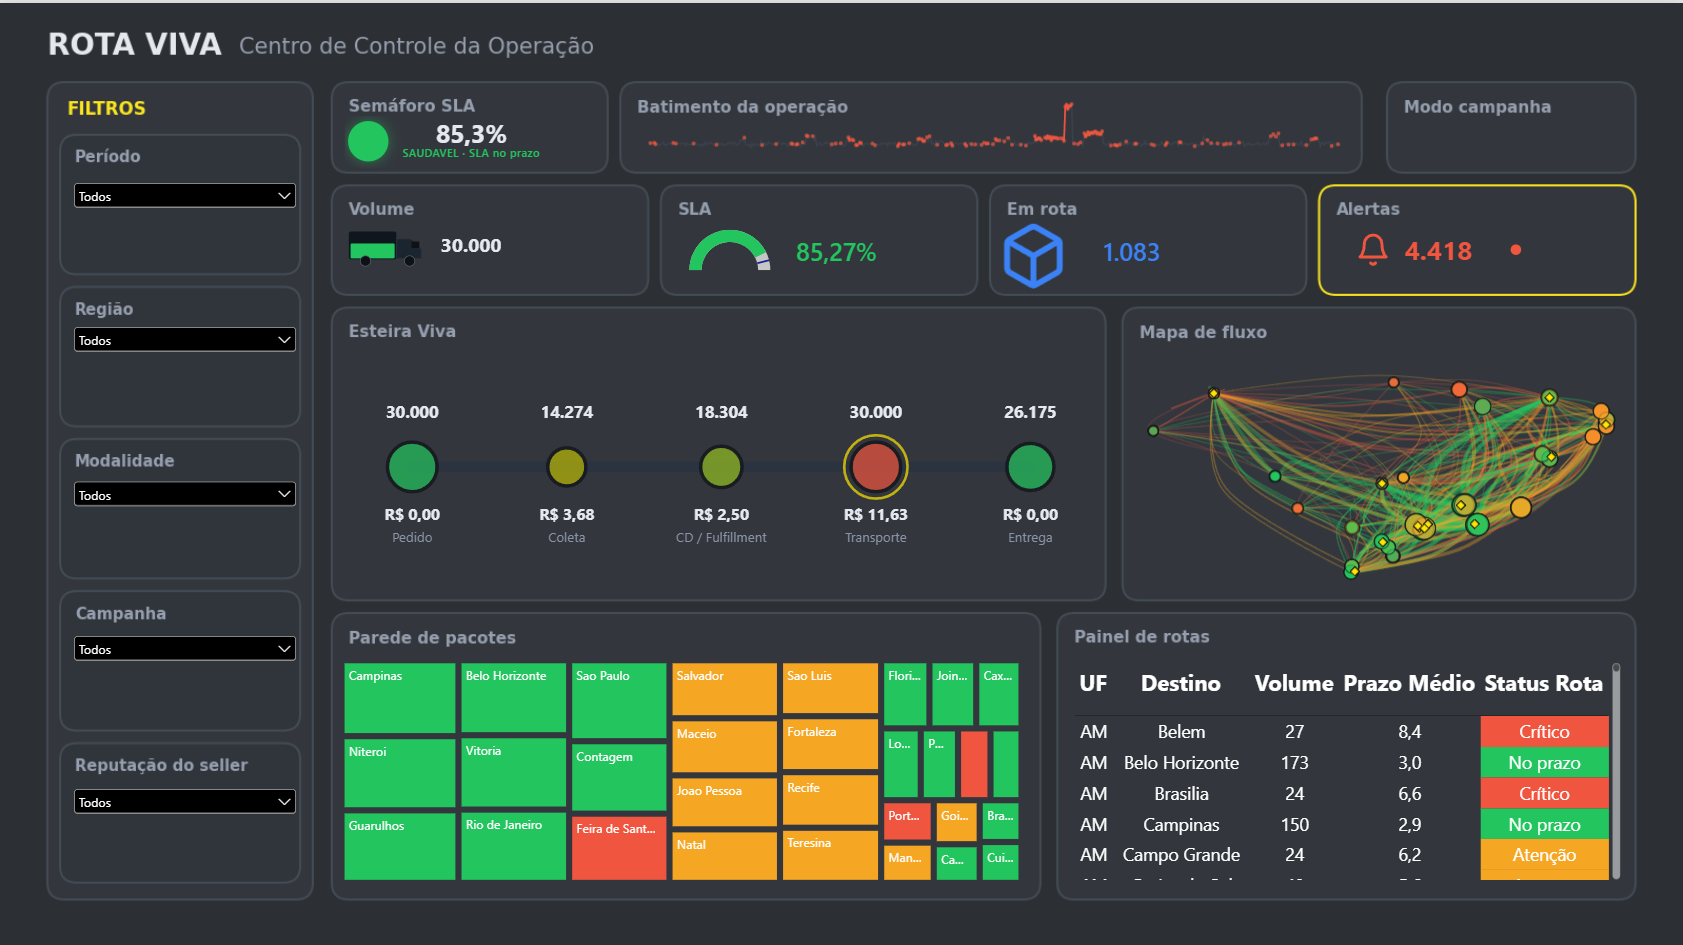

This screenshot's page, from the dashboard's own definition file:
{"tool":"powerbi","page":{"name":"Página 1","canvas":[1920,1080],"ordinal":0},"visuals":[{"type":"htmlContent443BE3AD55E043BF878BED274D3A6855","fields":{"content":["medida.Farol SLA HTML"]},"box":[378.3,114.5,335.6,89.2],"z":0},{"type":"deneb7E15AEF80B9E4D4F8E12924291ECE89A","fields":{"dataset":["dim_calendario.data","medida.Total Envios","medida.Abaixo Meta"]},"box":[713.7,92.8,839.4,96.7],"z":1000},{"type":"cardVisual","fields":{"Data":["medida.Campanha Ativa"]},"box":[1583.7,114.2,279.8,76.1],"z":2000},{"type":"slicer","fields":{"Values":["fato_envios.campanha"]},"box":[79.9,715.7,262.7,43.8],"z":3000},{"type":"htmlContent443BE3AD55E043BF878BED274D3A6855","fields":{"content":["medida.Caminhao HTML"]},"box":[378.8,234.1,359.8,95.2],"z":4000},{"type":"slicer","fields":{"Values":["dim_modalidade.modalidade"]},"box":[79.9,540.6,262.7,43.8],"z":5000},{"type":"gauge","fields":{"MaxValue":["medida.Máximo"],"TargetValue":["medida.Destino/Target"],"Y":["medida.SLA No Prazo %"]},"box":[753.8,243.7,158,76.1],"z":6000},{"type":"cardVisual","fields":{"Data":["medida.SLA No Prazo %"]},"box":[892.8,243.7,133.2,76.1],"z":7000},{"type":"htmlContent443BE3AD55E043BF878BED274D3A6855","fields":{"content":["medida.Icone_DAX"]},"box":[1111.7,234.1,131.3,129.4],"z":8000},{"type":"cardVisual","fields":{"Data":["medida.Em Rota"]},"box":[1243,243.7,133.2,76.1],"z":9000},{"type":"htmlContent443BE3AD55E043BF878BED274D3A6855","fields":{"content":["medida.Alerta HTML"]},"box":[1528.5,243.7,220.8,85.7],"z":10000},{"type":"deneb7E15AEF80B9E4D4F8E12924291ECE89A","fields":{"dataset":["fato_envios.id_cd","dim_cd.latitude","dim_cd.longitude","fato_envios.cidade_destino","dim_cidade (1).long_dest","dim_cidade (1).lat_dest","medida.Total Envios","medida.SLA100"]},"box":[1284.9,403.5,578.7,276],"z":11000},{"type":"slicer","fields":{"Values":["dim_calendario.data.Variation.Hierarquia de datas.Ano","dim_calendario.data.Variation.Hierarquia de datas.Mês"]},"box":[79.9,199.9,262.7,43.8],"z":12000},{"type":"deneb7E15AEF80B9E4D4F8E12924291ECE89A","fields":{"dataset":["dim_etapa.Etapa","dim_etapa.Ordem","medida.Vol Etapa","medida.Custo Envio Etapa","medida.% Custo Etapa"]},"box":[379.3,384.5,886.8,295.6],"z":13000},{"type":"slicer","fields":{"Values":["fato_envios.cidade_destino"]},"box":[79.9,363.6,262.7,43.8],"z":15000},{"type":"tableEx","fields":{"Values":["dim_cd.uf","fato_envios.cidade_destino","medida.Volume Rotulo","medida.Prazo Medio (dias)","medida.Status Rota"]},"box":[1208.7,738.6,654.8,276],"z":16000},{"type":"slicer","fields":{"Values":["dim_seller.reputacao"]},"box":[79.9,890.8,262.7,43.8],"z":17000},{"type":"treemap","fields":{"Group":["fato_envios.regiao_destino","fato_envios.cidade_destino"],"Values":["medida.Impacto Atraso"]},"box":[377.6,738.2,799.7,276.8],"z":17001}]}

Visuals, with their boxes in screenshot pixels (x1, y1, x2, y2), scaled from the page's 1920x1080 canvas onto the 1683x945 screenshot:
htmlContent443BE3AD55E043BF878BED274D3A6855 - medida.Farol SLA HTML: locate(332, 100, 626, 178)
deneb7E15AEF80B9E4D4F8E12924291ECE89A - dim_calendario.data x medida.Total Envios: locate(626, 81, 1361, 166)
cardVisual - medida.Campanha Ativa: locate(1388, 100, 1633, 167)
slicer - fato_envios.campanha: locate(70, 626, 300, 665)
htmlContent443BE3AD55E043BF878BED274D3A6855 - medida.Caminhao HTML: locate(332, 205, 647, 288)
slicer - dim_modalidade.modalidade: locate(70, 473, 300, 511)
gauge - medida.Máximo x medida.Destino/Target: locate(661, 213, 799, 280)
cardVisual - medida.SLA No Prazo %: locate(783, 213, 899, 280)
htmlContent443BE3AD55E043BF878BED274D3A6855 - medida.Icone_DAX: locate(974, 205, 1090, 318)
cardVisual - medida.Em Rota: locate(1090, 213, 1206, 280)
htmlContent443BE3AD55E043BF878BED274D3A6855 - medida.Alerta HTML: locate(1340, 213, 1533, 288)
deneb7E15AEF80B9E4D4F8E12924291ECE89A - fato_envios.id_cd x dim_cd.latitude: locate(1126, 353, 1634, 595)
slicer - dim_calendario.data.Variation.Hierarquia de datas.Ano x dim_calendario.data.Variation.Hierarquia de datas.Mês: locate(70, 175, 300, 213)
deneb7E15AEF80B9E4D4F8E12924291ECE89A - dim_etapa.Etapa x dim_etapa.Ordem: locate(332, 336, 1110, 595)
slicer - fato_envios.cidade_destino: locate(70, 318, 300, 356)
tableEx - dim_cd.uf x fato_envios.cidade_destino: locate(1060, 646, 1633, 888)
slicer - dim_seller.reputacao: locate(70, 779, 300, 818)
treemap - fato_envios.regiao_destino x fato_envios.cidade_destino: locate(331, 646, 1032, 888)
